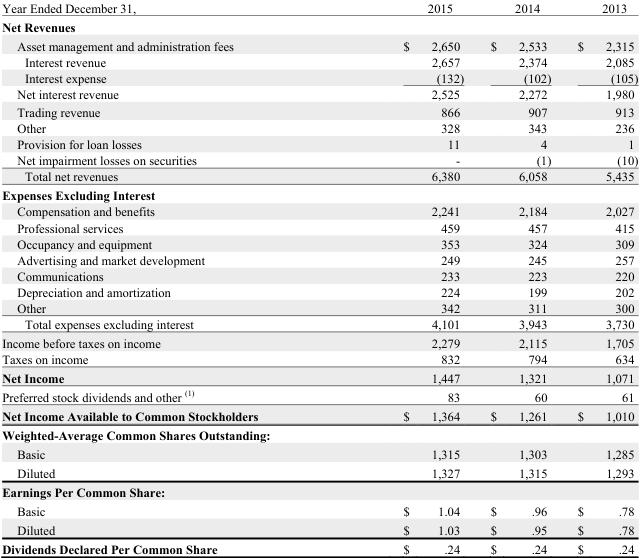table: (1, 0, 637, 555)
table column: (1, 0, 329, 555), (329, 0, 476, 555), (476, 0, 563, 555), (563, 0, 637, 555)
table column header: (1, 0, 637, 17)
table projected row header: (1, 17, 637, 36), (1, 425, 637, 444), (1, 482, 637, 501), (1, 185, 637, 203)
table row: (1, 386, 637, 406), (1, 17, 637, 36), (1, 406, 637, 425), (1, 425, 637, 444), (1, 444, 637, 463), (1, 463, 637, 482), (1, 482, 637, 501), (1, 519, 637, 538), (1, 185, 637, 203), (1, 315, 637, 333), (1, 350, 637, 368), (1, 368, 637, 386), (1, 501, 637, 519), (1, 0, 637, 17), (1, 36, 637, 53), (1, 85, 637, 102), (1, 102, 637, 119), (1, 151, 637, 168), (1, 168, 637, 185), (1, 333, 637, 350), (1, 538, 637, 555), (1, 53, 637, 69), (1, 69, 637, 85), (1, 119, 637, 135), (1, 135, 637, 151), (1, 203, 637, 219), (1, 219, 637, 235), (1, 235, 637, 251), (1, 251, 637, 267), (1, 267, 637, 283), (1, 283, 637, 299), (1, 299, 637, 315)
